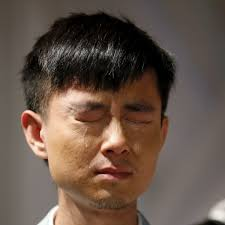person: (20, 9, 175, 216)
